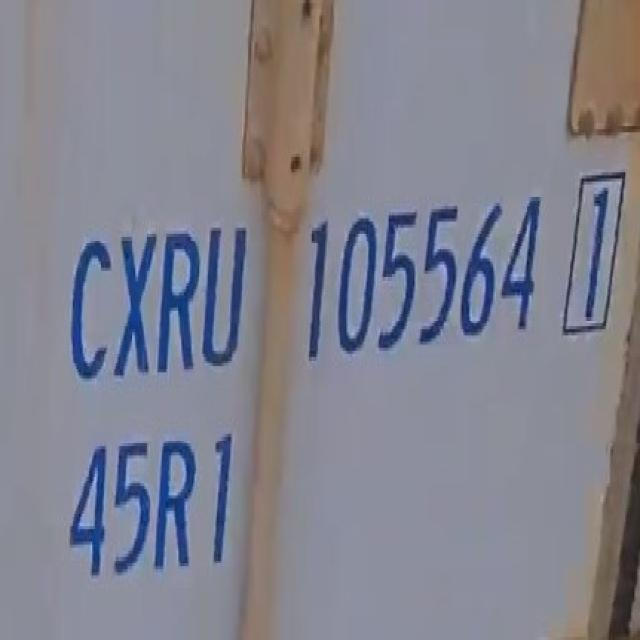dv: (557, 168, 629, 348)
owner: (68, 214, 252, 396)
serial: (296, 187, 549, 378)
size: (55, 411, 238, 591)
